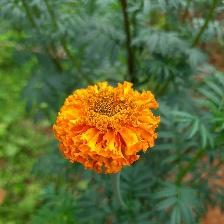marigold: (52, 80, 162, 176)
